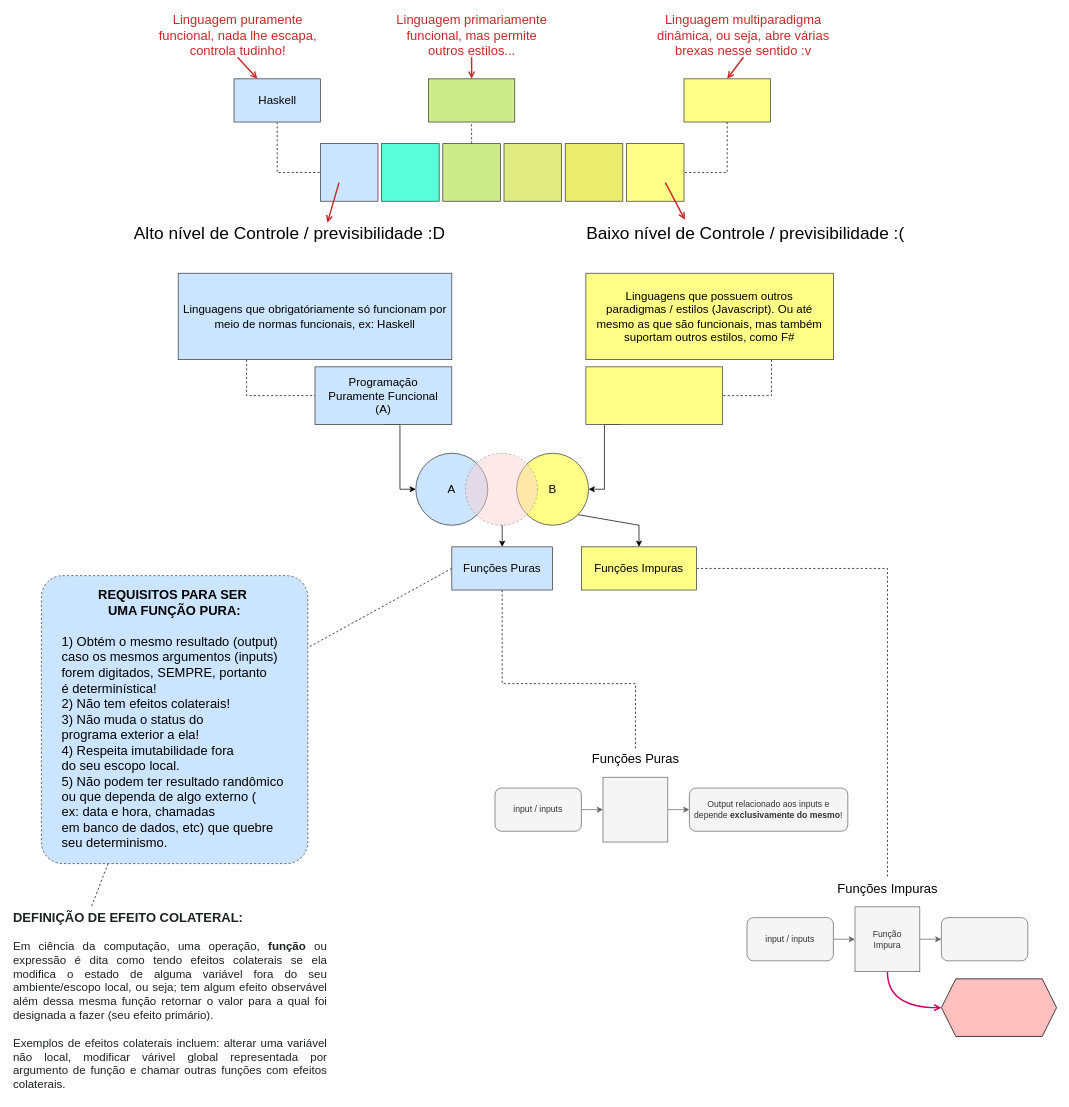
Some shapes in this 1069 by 1107 pixel diagram are drawn without their labels. The centre of each missing label's shape, as x and y in pixels:
Efeito colateral além do output que planejamos...: point (999, 1007)
F#: point (471, 100)
Função Pura: point (635, 809)
Javascript: point (726, 100)
Linguagens não puramente funcionais (B): point (654, 395)
Output relacionado aos inputs.: point (984, 939)
